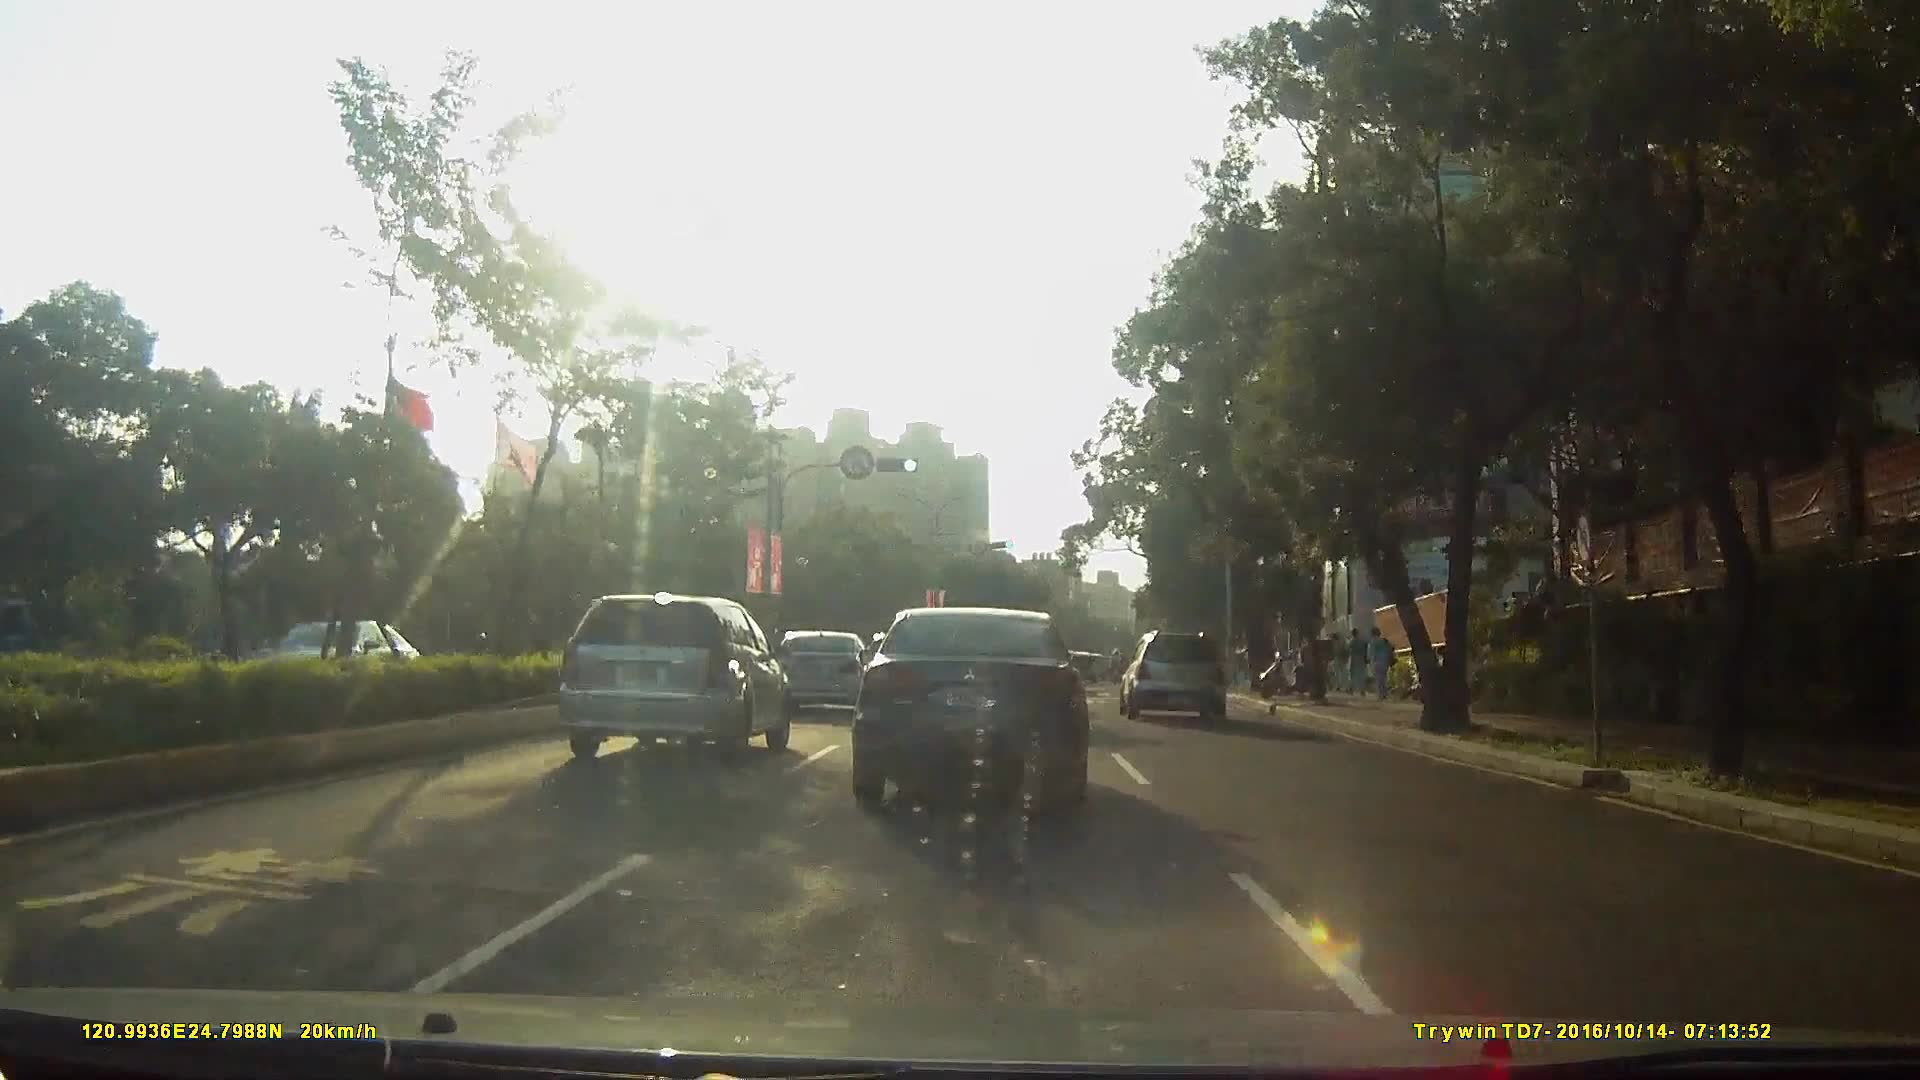pedestrian: (1366, 617, 1395, 701), (1348, 622, 1368, 702)
vehicle: (848, 595, 1087, 808), (553, 582, 790, 755), (244, 617, 431, 699), (1116, 630, 1239, 725), (776, 631, 869, 720)
